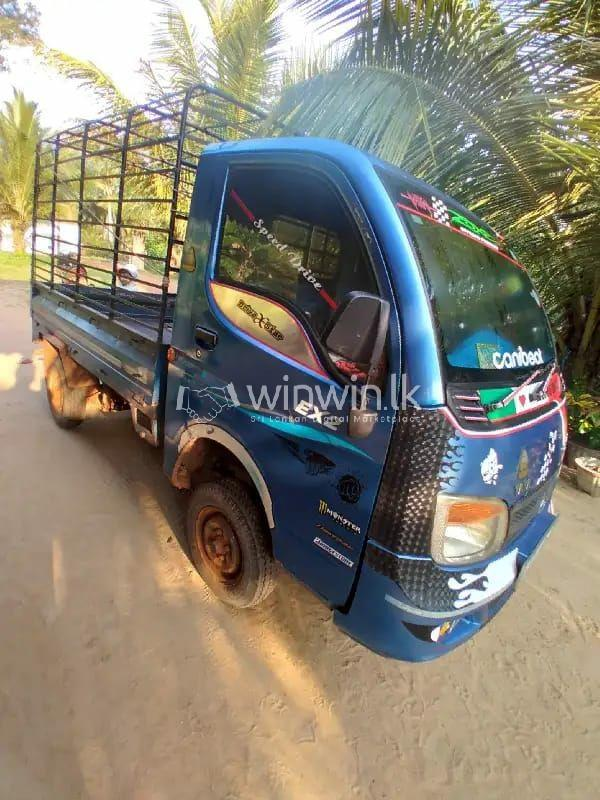truck: (30, 86, 567, 662)
